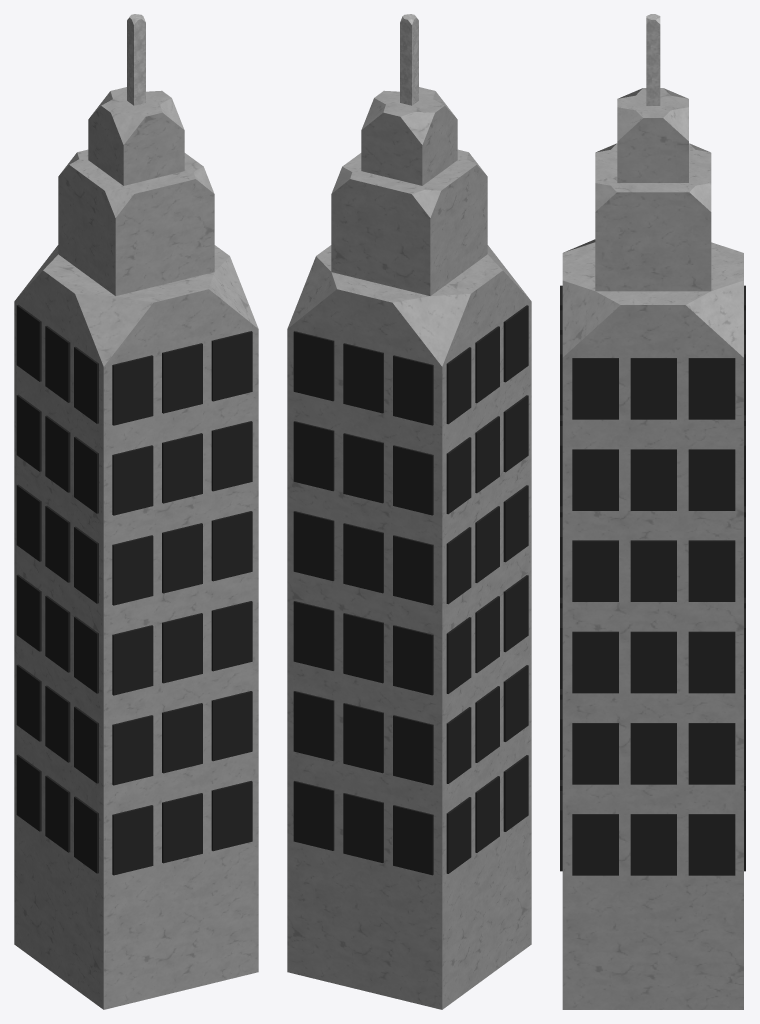
Rendered from Building1Decay.fbx.
3 renders of one model, left to right at view 1: azimuth 30°, elevation 25°; view 2: azimuth 150°, elevation 25°; view 3: azimuth 270°, elevation 25°, orthographic.
Visible parts, largest first — view 1: Cube.003, Cube.001, Cube.002; view 2: Cube.003, Cube.001, Cube.002; view 3: Cube.003, Cube.002, Cube.001.
Part boxes in pixels (box(x1,y1,x2,y2)): Cube.003: box(14, 14, 258, 1009); Cube.001: box(112, 331, 252, 875); Cube.002: box(16, 304, 98, 873); Cube.003: box(287, 14, 531, 1009); Cube.001: box(293, 331, 433, 875); Cube.002: box(446, 305, 528, 873); Cube.003: box(562, 14, 743, 1009); Cube.002: box(572, 358, 735, 875); Cube.001: box(560, 285, 745, 871).
Bounding box in the file's own units: 1023 × 5807 × 1025.
Materials: 2 (2 with a texture image).
